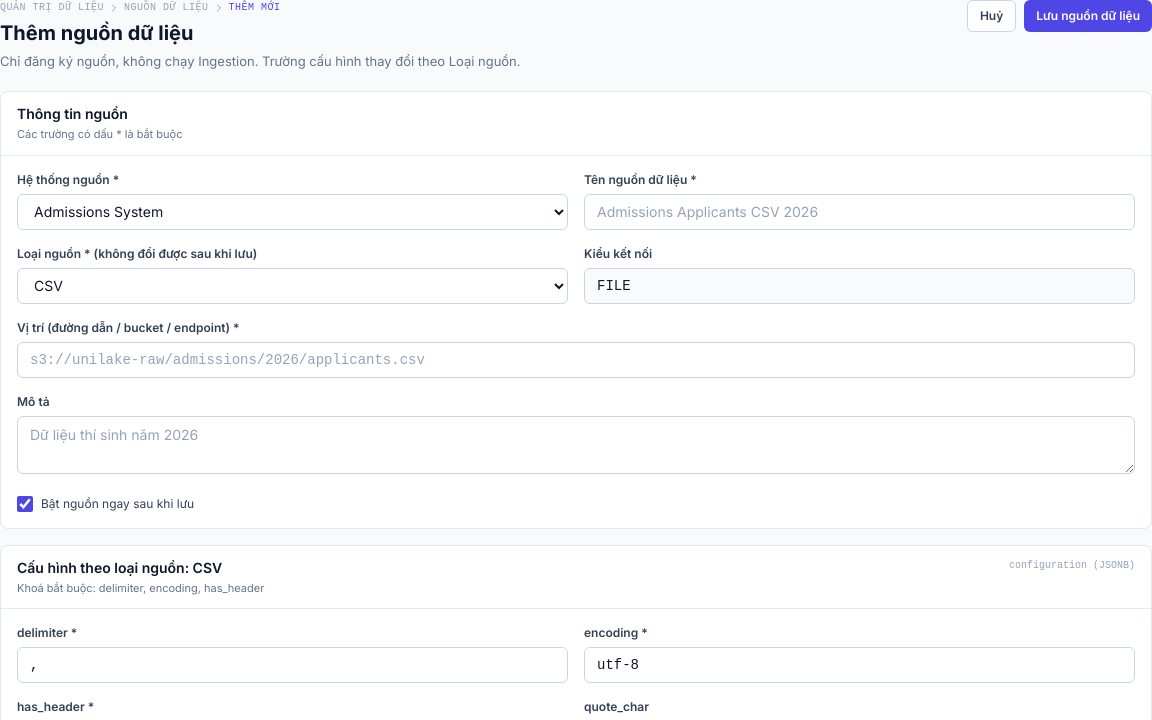
Test: SourceFormView (thêm mới) › báo lỗi trường bắt buộc và không gọi API
Clear the field labelled "delimiter *" at (292, 665), box [17, 647, 568, 683]
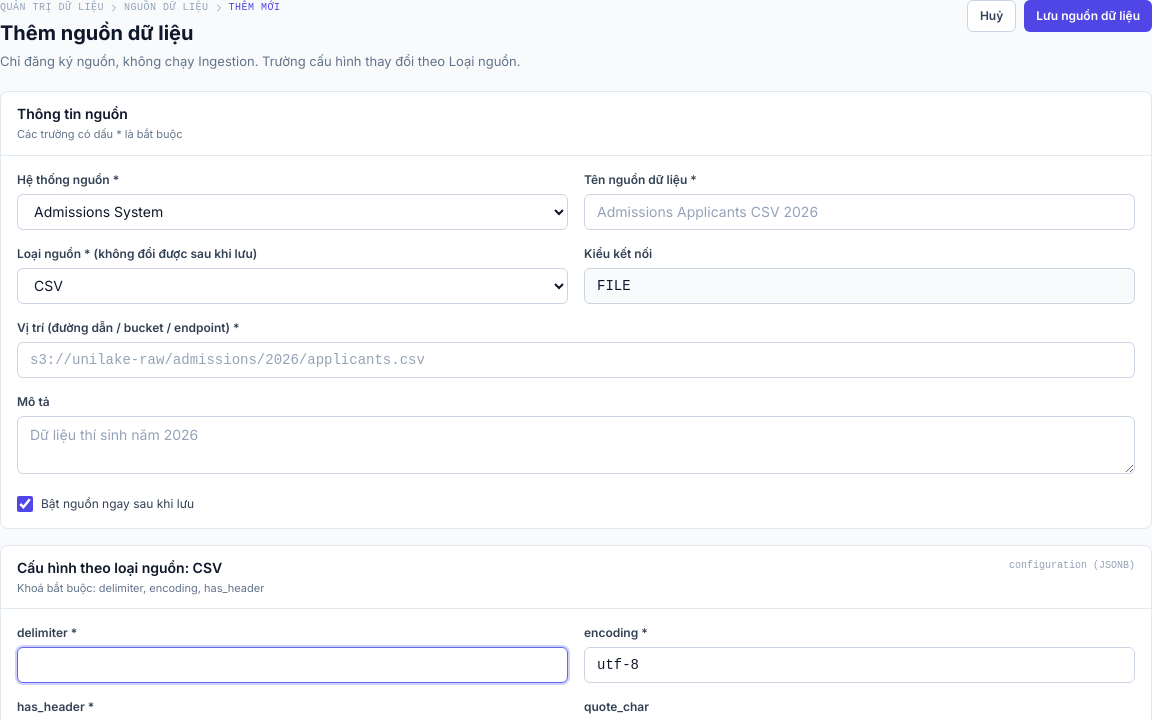
Click the button "Lưu nguồn dữ liệu" at (1088, 16), box [1024, 0, 1151, 32]
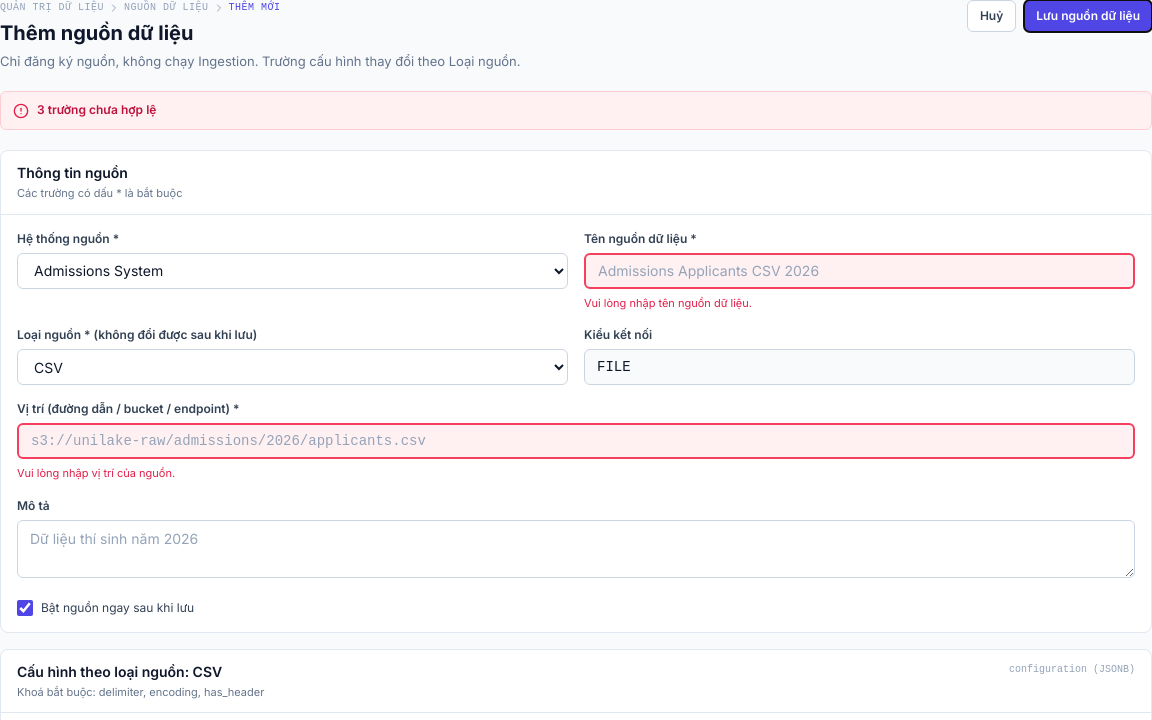
Now the text "Vui lòng nhập tên nguồn dữ liệu." is shown, box [584, 296, 752, 310]
Now the text "Vui lòng nhập vị trí của nguồn." is shown, box [17, 466, 175, 480]
Now the text "3 trường chưa hợp lệ" is shown, box [37, 102, 156, 118]
